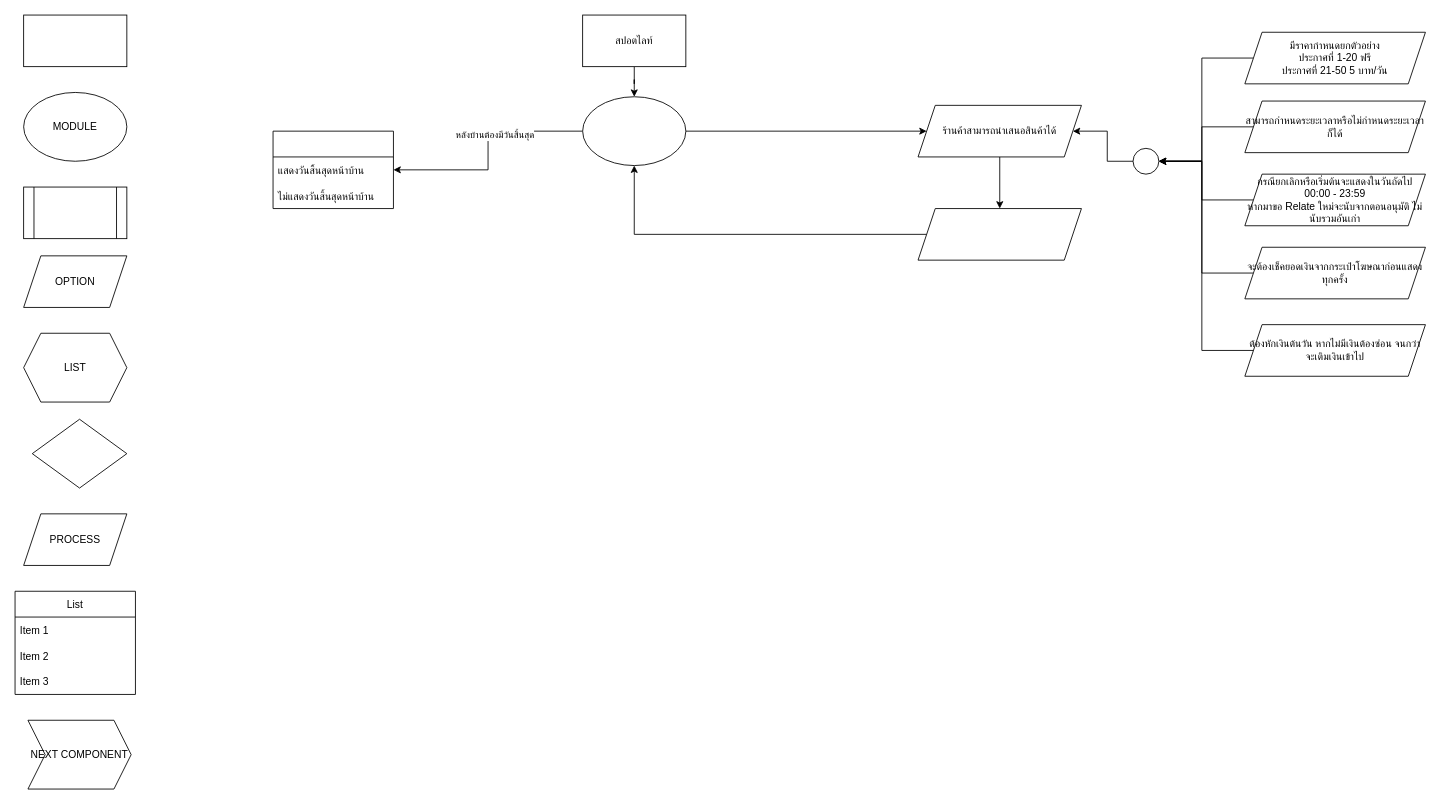
Image size: 1441x804. Some labels were removed from this diagram. The box of each missing label's shape, as (x1, y1, x2, y2) in pixels:
Admin จะต้อง Approve ก่อนถึงจะแสดงในกลุ่มนั้นๆ: (917, 208, 1081, 260)
Admin สร้างกลุ่มสปอตไลท์ขึ้นมา: (582, 96, 686, 166)
INFORMATION: (31, 418, 127, 488)
INPUT: (23, 186, 127, 239)
MAIN: (23, 14, 127, 67)
ตัวเลือก: (272, 130, 393, 209)
